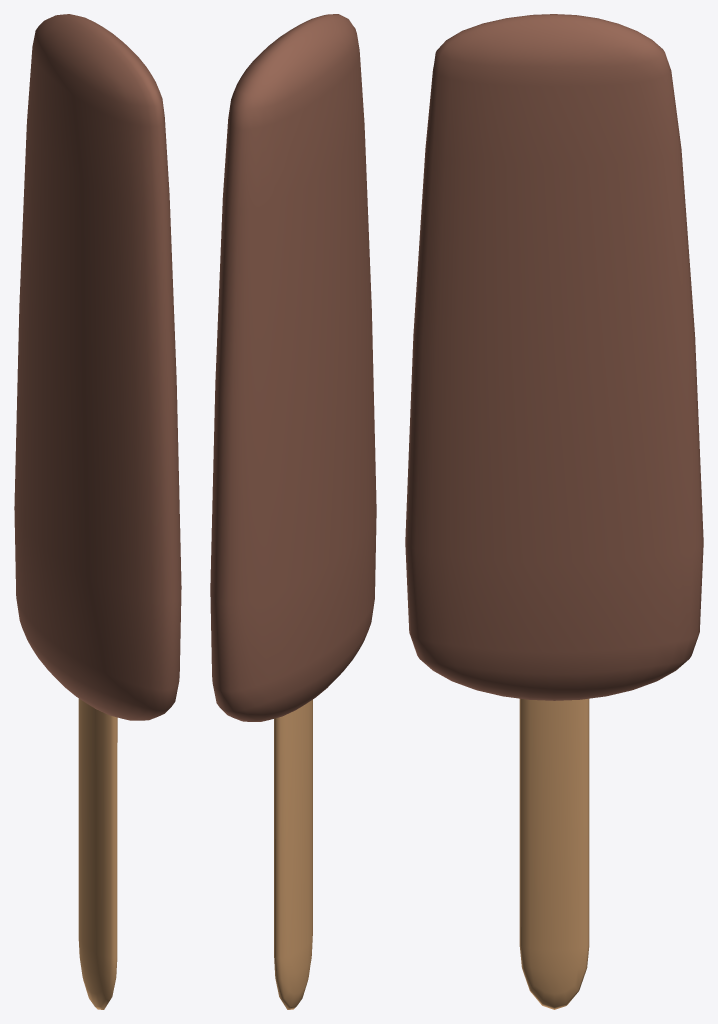
File: cage_popsicle_choc.glb
3 renders of one model, left to right at view 1: azimuth 30°, elevation 25°; view 2: azimuth 150°, elevation 25°; view 3: azimuth 270°, elevation 25°, orthographic.
Visible parts, largest first — view 1: cage_popsicle_choc; view 2: cage_popsicle_choc; view 3: cage_popsicle_choc.
Part boxes in pixels (left/top/right/bottom): cage_popsicle_choc: left=14, top=14, right=181, bottom=1009; cage_popsicle_choc: left=210, top=14, right=376, bottom=1009; cage_popsicle_choc: left=405, top=14, right=703, bottom=1009.
Size of the model in its own units: 0.9563 by 11 by 2.99.
Materials: 3 (3 with a texture image).
